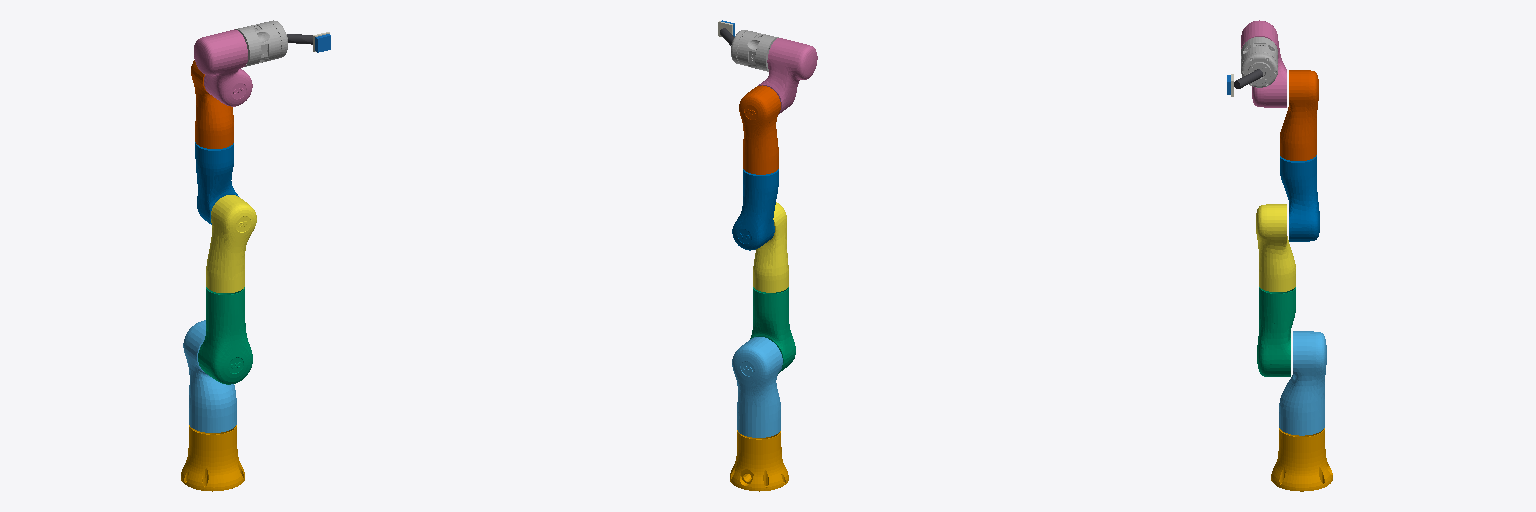
URDF robot description (rizon4s_acp_wiper_lowwer):
<?xml version="1.0"?>
<!-- Rizon 4s with a wiping tool: angled handle (sponge 8.7 cm in front of the flange axis, so the wrist clears
     the water bottle) and a 4 cm square sponge on a 4.5 cm plate. -->
<robot name="rizon4s_acp_wiper_lowwer">
  <link name="base_link">
    <inertial>
      <origin xyz="0.0002 -0.0007 0.0871" rpy="0 0 0" />
      <mass value="3.788" />
      <inertia ixx="0.0182" ixy="0.0" ixz="0.0" iyy="0.0184" iyz="0.0001" izz="0.01" />
    </inertial>
    <visual>
      <geometry>
        <mesh filename="rizon4s_visual_link0.obj" />
      </geometry>
    </visual>
    <collision>
      <geometry>
        <mesh filename="rizon4s_collision_link0.stl" />
      </geometry>
    </collision>
  </link>
  <link name="link1">
    <inertial>
      <origin xyz="0.0001 0.0035 0.15" rpy="0 0 0" />
      <mass value="3.596" />
      <inertia ixx="0.0274" ixy="0.0" ixz="0.0" iyy="0.0273" iyz="0.0011" izz="0.0071" />
    </inertial>
    <visual>
      <geometry>
        <mesh filename="rizon4s_visual_link1.obj" />
      </geometry>
    </visual>
    <collision>
      <geometry>
        <mesh filename="rizon4s_collision_link1.stl" />
      </geometry>
    </collision>
  </link>
  <joint name="joint1" type="revolute">
    <parent link="base_link" />
    <child link="link1" />
    <origin xyz="0 0 0.155" rpy="0 0 3.141592653589793" />
    <axis xyz="0 0 1" />
    <limit lower="-2.8798" upper="2.8798" effort="123" velocity="2.0944" />
    <dynamics damping="0.1" friction="0" />
  </joint>
  <link name="link2">
    <inertial>
      <origin xyz="-0.0003 0.0361 0.0998" rpy="0 0 0" />
      <mass value="2.69" />
      <inertia ixx="0.023" ixy="0.0" ixz="0.0" iyy="0.0239" iyz="-0.0001" izz="0.0036" />
    </inertial>
    <visual>
      <geometry>
        <mesh filename="rizon4s_visual_link2.obj" />
      </geometry>
    </visual>
    <collision>
      <geometry>
        <mesh filename="rizon4s_collision_link2.stl" />
      </geometry>
    </collision>
  </link>
  <joint name="joint2" type="revolute">
    <parent link="link1" />
    <child link="link2" />
    <origin xyz="0 0.03 0.21" rpy="0 0 0" />
    <axis xyz="0 1 0" />
    <limit lower="-2.3562" upper="2.3562" effort="123" velocity="2.0944" />
    <dynamics damping="0.1" friction="0" />
  </joint>
  <link name="link3">
    <inertial>
      <origin xyz="-0.0123 -0.0012 0.1366" rpy="0 0 0" />
      <mass value="2.354" />
      <inertia ixx="0.0143" ixy="0.0001" ixz="-0.0015" iyy="0.0137" iyz="-0.0005" izz="0.004" />
    </inertial>
    <visual>
      <geometry>
        <mesh filename="rizon4s_visual_link3.obj" />
      </geometry>
    </visual>
    <collision>
      <geometry>
        <mesh filename="rizon4s_collision_link3.stl" />
      </geometry>
    </collision>
  </link>
  <joint name="joint3" type="revolute">
    <parent link="link2" />
    <child link="link3" />
    <origin xyz="0 0.035 0.205" rpy="0 0 0" />
    <axis xyz="0 0 1" />
    <limit lower="-3.0543" upper="3.0543" effort="64" velocity="2.4435" />
    <dynamics damping="0.08" friction="0" />
  </joint>
  <link name="link4">
    <inertial>
      <origin xyz="-0.0129 0.0313 0.1034" rpy="0 0 0" />
      <mass value="2.354" />
      <inertia ixx="0.018" ixy="0.0001" ixz="-0.0016" iyy="0.0184" iyz="-0.0012" izz="0.003" />
    </inertial>
    <visual>
      <geometry>
        <mesh filename="rizon4s_visual_link4.obj" />
      </geometry>
    </visual>
    <collision>
      <geometry>
        <mesh filename="rizon4s_collision_link4.stl" />
      </geometry>
    </collision>
  </link>
  <joint name="joint4" type="revolute">
    <parent link="link3" />
    <child link="link4" />
    <origin xyz="-0.02 -0.03 0.19" rpy="0 0 3.141592653589793" />
    <axis xyz="0 1 0" />
    <limit lower="-1.9548" upper="2.7751" effort="64" velocity="2.4435" />
    <dynamics damping="0.08" friction="0" />
  </joint>
  <link name="link5">
    <inertial>
      <origin xyz="0.0003 0.0014 0.1363" rpy="0 0 0" />
      <mass value="2.31" />
      <inertia ixx="0.0142" ixy="0.0" ixz="0.0" iyy="0.0135" iyz="0.0005" izz="0.0037" />
    </inertial>
    <visual>
      <geometry>
        <mesh filename="rizon4s_visual_link5.obj" />
      </geometry>
    </visual>
    <collision>
      <geometry>
        <mesh filename="rizon4s_collision_link5.stl" />
      </geometry>
    </collision>
  </link>
  <joint name="joint5" type="revolute">
    <parent link="link4" />
    <child link="link5" />
    <origin xyz="-0.02 0.025 0.195" rpy="0 0 3.141592653589793" />
    <axis xyz="0 0 1" />
    <limit lower="-3.0543" upper="3.0543" effort="39" velocity="4.8869" />
    <dynamics damping="0.05" friction="0" />
  </joint>
  <link name="link6">
    <inertial>
      <origin xyz="0.0202 0.0596 0.0724" rpy="0 0 0" />
      <mass value="2.223" />
      <inertia ixx="0.0085" ixy="0.0004" ixz="0.0012" iyy="0.009" iyz="0.0018" izz="0.0042" />
    </inertial>
    <visual>
      <geometry>
        <mesh filename="rizon4s_visual_link6.obj" />
      </geometry>
    </visual>
    <collision>
      <geometry>
        <mesh filename="rizon4s_collision_link6.stl" />
      </geometry>
    </collision>
  </link>
  <joint name="joint6" type="revolute">
    <parent link="link5" />
    <child link="link6" />
    <origin xyz="0 0.03 0.19" rpy="0 0 0" />
    <axis xyz="0 1 0" />
    <limit lower="-1.4835" upper="4.6251" effort="39" velocity="4.8869" />
    <dynamics damping="0.05" friction="0" />
  </joint>
  <link name="link7">
    <inertial>
      <origin xyz="0 0.0001 0.0544" rpy="0 0 0" />
      <mass value="1.403" />
      <inertia ixx="0.0032" ixy="0.0" ixz="0.0" iyy="0.0032" iyz="0.0" izz="0.0018" />
    </inertial>
    <visual>
      <geometry>
        <mesh filename="rizon4s_visual_link7.obj" />
      </geometry>
    </visual>
    <collision>
      <geometry>
        <mesh filename="rizon4s_collision_link7.stl" />
      </geometry>
    </collision>
  </link>
  <joint name="joint7" type="revolute">
    <parent link="link6" />
    <child link="link7" />
    <origin xyz="-0.015 0.073 0.11" rpy="0 -1.5707963267948966 0" />
    <axis xyz="0 0 1" />
    <limit lower="-3.0543" upper="3.0543" effort="39" velocity="4.8869" />
    <dynamics damping="0.03" friction="0" />
  </joint>
  <link name="flange" />
  <joint name="link7_to_flange" type="fixed">
    <parent link="link7" />
    <child link="flange" />
    <origin xyz="0 0 0.124" rpy="0 0 3.141592653589793" />
  </joint>
  <joint name="flange_to_tool" type="fixed">
    <parent link="flange" />
    <child link="tool_link" />
    <origin xyz="0 -0.087 0.075" rpy="1.5707963267948966 0 0" />
  </joint>
  <link name="tool_link">
    <inertial>
      <origin xyz="0 -0.015 -0.0189" rpy="0 0 0" />
      <mass value="0.1" />
      <inertia ixx="7.39465e-05" iyy="9.06156666667e-05" izz="0.000151044166667" ixy="0" ixz="0" iyz="-1.215e-05" />
    </inertial>
    <visual>
      <origin xyz="0 -0.0375 -0.057" rpy="-0.89605538 0 0" />
      <geometry>
        <cylinder radius="0.012" length="0.0960469" />
      </geometry>
      <material name="acp_2">
        <color rgba="0.3 0.3 0.32 1" />
      </material>
    </visual>
    <collision>
      <origin xyz="0 -0.0375 -0.057" rpy="-0.89605538 0 0" />
      <geometry>
        <cylinder radius="0.012" length="0.0960469" />
      </geometry>
    </collision>
    <visual>
      <origin xyz="0 0 -0.015" rpy="0 0 0" />
      <geometry>
        <box size="0.045 0.045 0.006" />
      </geometry>
      <material name="acp_4">
        <color rgba="0.85 0.84 0.78 1" />
      </material>
    </visual>
    <collision>
      <origin xyz="0 0 -0.015" rpy="0 0 0" />
      <geometry>
        <box size="0.045 0.045 0.006" />
      </geometry>
    </collision>
    <visual>
      <origin xyz="0 0 -0.006" rpy="0 0 0" />
      <geometry>
        <box size="0.04 0.04 0.012" />
      </geometry>
      <material name="acp_6">
        <color rgba="0.12 0.48 0.78 1" />
      </material>
    </visual>
    <collision>
      <origin xyz="0 0 -0.006" rpy="0 0 0" />
      <geometry>
        <box size="0.04 0.04 0.012" />
      </geometry>
    </collision>
  </link>
</robot>

--- Facts derived from the render (not from the file) ---
Views: 3 orthographic renders of the robot side by side, from view 1: azimuth 30°, elevation 25°; view 2: azimuth 150°, elevation 25°; view 3: azimuth 270°, elevation 25°.
Robot: rizon4s_acp_wiper_lowwer — 10 links, 9 joints (7 revolute, 2 fixed); root link base_link; default pose: every joint at zero.
Links seen in each view (by area): view 1: link2, link3, link6, link1, base_link, link4, link5, link7, tool_link; view 2: link1, link5, base_link, link4, link6, link2, link3, link7; view 3: link1, link2, base_link, link5, link3, link4, link6, link7.
Boxes of the visible links, box(x1,y1,x2,y2) form: link2: box(198, 287, 252, 384); link3: box(206, 195, 256, 292); link6: box(194, 29, 252, 106); link1: box(183, 320, 236, 432); base_link: box(181, 425, 244, 491); link4: box(195, 142, 238, 224); link5: box(191, 60, 233, 148); link7: box(235, 20, 287, 66); tool_link: box(287, 32, 330, 52); link1: box(732, 337, 782, 437); link5: box(739, 85, 780, 174); base_link: box(730, 430, 788, 491); link4: box(732, 169, 778, 250); link6: box(758, 38, 817, 114); link2: box(750, 287, 795, 373); link3: box(753, 202, 788, 292); link7: box(731, 30, 778, 71); link1: box(1279, 331, 1326, 435); link2: box(1257, 287, 1295, 376); base_link: box(1271, 428, 1332, 491); link5: box(1280, 70, 1318, 160); link3: box(1256, 204, 1295, 291); link4: box(1280, 155, 1319, 241); link6: box(1241, 20, 1286, 107); link7: box(1241, 37, 1277, 87).
Size in the robot's own frame: 0.342 by 0.2825 by 1.3 metres.
Meshes: 8 distinct files referenced, 8 mesh visuals loaded (8 OBJ).
